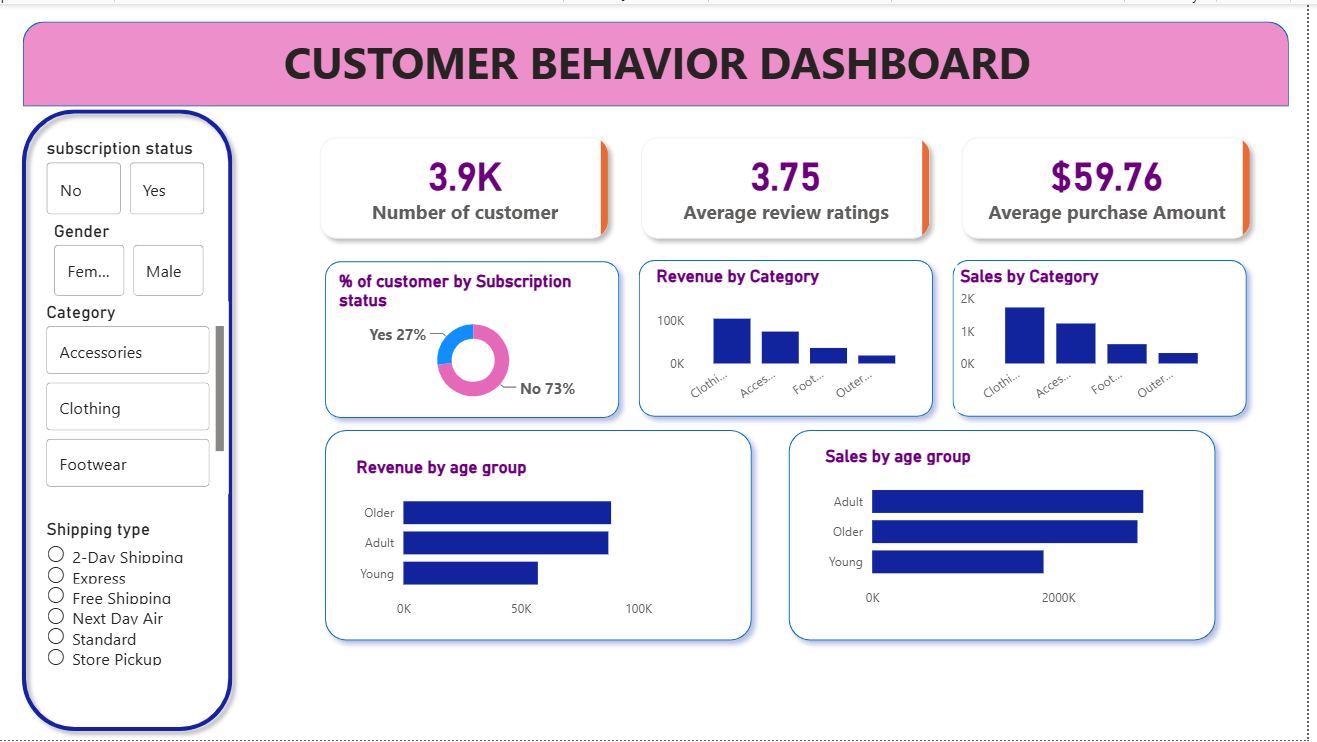

What the dashboard file says about the page in this screenshot:
{"tool":"powerbi","page":{"name":"Page 1","canvas":[1280,720],"ordinal":0},"visuals":[{"type":"shape","box":[309.4,407.2,436.6,225],"z":0},{"type":"cardVisual","fields":{"Data":["_Measure.Number of customer","_Measure.Average review ratings","_Measure.Average purchase Amount"]},"box":[284.9,101.5,970.9,157.7],"z":1000},{"type":"shape","box":[23.2,17.1,1238.7,83.2],"z":2000},{"type":"textbox","box":[48.9,22,1189.8,72.1],"z":3000},{"type":"shape","box":[309.4,242.1,306.9,172.4],"z":4000},{"type":"donutChart","title":"% of customer by Subscription status","fields":{"Category":["public customer.subscription_status"],"Y":["Count(public customer.customer_id)"]},"box":[327.7,260.5,272.7,138.2],"z":5000},{"type":"shape","box":[616.3,240.9,306.9,172.4],"z":6000},{"type":"shape","box":[923.2,240.9,306.9,172.4],"z":7000},{"type":"clusteredColumnChart","title":"Revenue by Category","fields":{"Y":["Sum(public customer.purchase_amount_usd)"],"Category":["public customer.category"]},"box":[638.3,255.6,264.1,144.3],"z":8000},{"type":"clusteredColumnChart","title":"Sales by Category","fields":{"Y":["CountNonNull(public customer.customer_id)"],"Category":["public customer.category"]},"box":[935.5,255.6,264.1,144.3],"z":9000},{"type":"shape","box":[13.5,94.2,223.8,626.1],"z":10000},{"type":"advancedSlicerVisual","fields":{"Values":["public customer.subscription_status"]},"box":[41.6,130.8,165.1,74.6],"z":11000},{"type":"advancedSlicerVisual","fields":{"Values":["public customer.gender"]},"box":[48.9,211.6,157.7,79.5],"z":12000},{"type":"advancedSlicerVisual","fields":{"Values":["public customer.category"]},"box":[41.6,291,183.4,188.3],"z":13000},{"type":"listSlicer","fields":{"Values":["public customer.shipping_type"]},"box":[41.6,503.8,165.1,190.8],"z":14000},{"type":"clusteredBarChart","title":"Revenue by age group","fields":{"Category":["public customer.Age group"],"Y":["Sum(public customer.purchase_amount_usd)"]},"box":[344.8,442.7,299.6,167.5],"z":15000},{"type":"shape","box":[763,407.2,436.6,225],"z":15001},{"type":"clusteredBarChart","title":"Sales by age group","fields":{"Category":["public customer.Age group"],"Y":["Sum(public customer.customer_id)"]},"box":[803.4,431.7,346.1,167.5],"z":15002}]}

Visuals, with their boxes in screenshot pixels (x1, y1, x2, y2), scaled from the page's 1280x720 canvas onto the 1317x742 screenshot:
shape: [318,420,768,652]
cardVisual - _Measure.Number of customer x _Measure.Average review ratings: [293,105,1292,267]
shape: [24,18,1298,103]
textbox: [50,23,1275,97]
shape: [318,249,634,427]
"% of customer by Subscription status" donutChart: [337,268,618,411]
shape: [634,248,950,426]
shape: [950,248,1266,426]
"Revenue by Category" clusteredColumnChart: [657,263,928,412]
"Sales by Category" clusteredColumnChart: [963,263,1234,412]
shape: [14,97,244,741]
advancedSlicerVisual - public customer.subscription_status: [43,135,213,212]
advancedSlicerVisual - public customer.gender: [50,218,213,300]
advancedSlicerVisual - public customer.category: [43,300,232,494]
listSlicer - public customer.shipping_type: [43,519,213,716]
"Revenue by age group" clusteredBarChart: [355,456,663,629]
shape: [785,420,1234,652]
"Sales by age group" clusteredBarChart: [827,445,1183,618]
